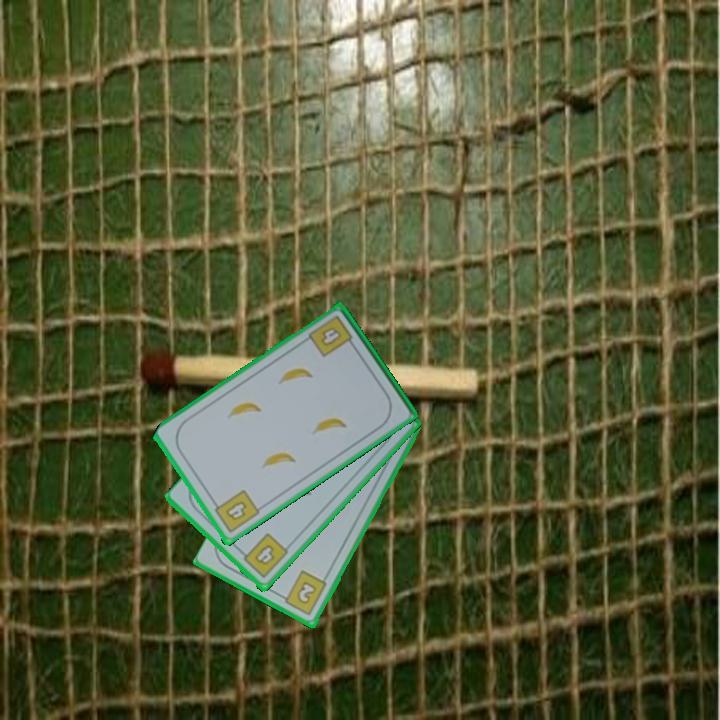2b: (277, 567, 330, 619)
4b: (236, 530, 291, 582), (208, 487, 262, 536), (305, 312, 358, 360)
